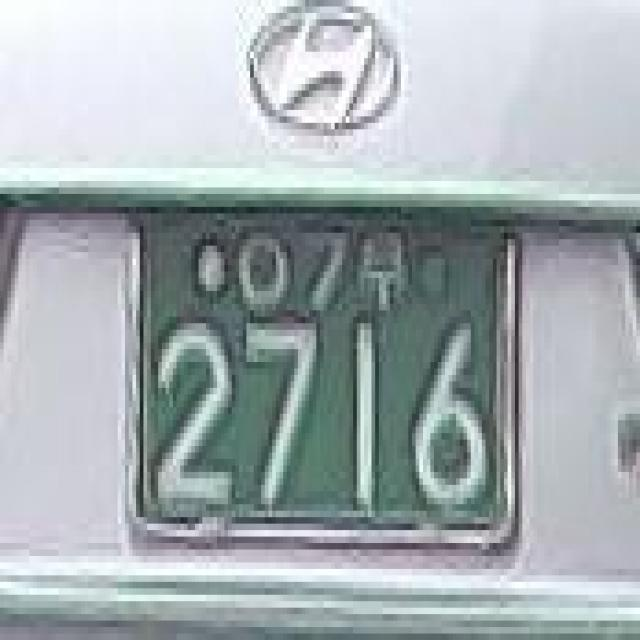illegal_plate: (108, 166, 540, 584)
